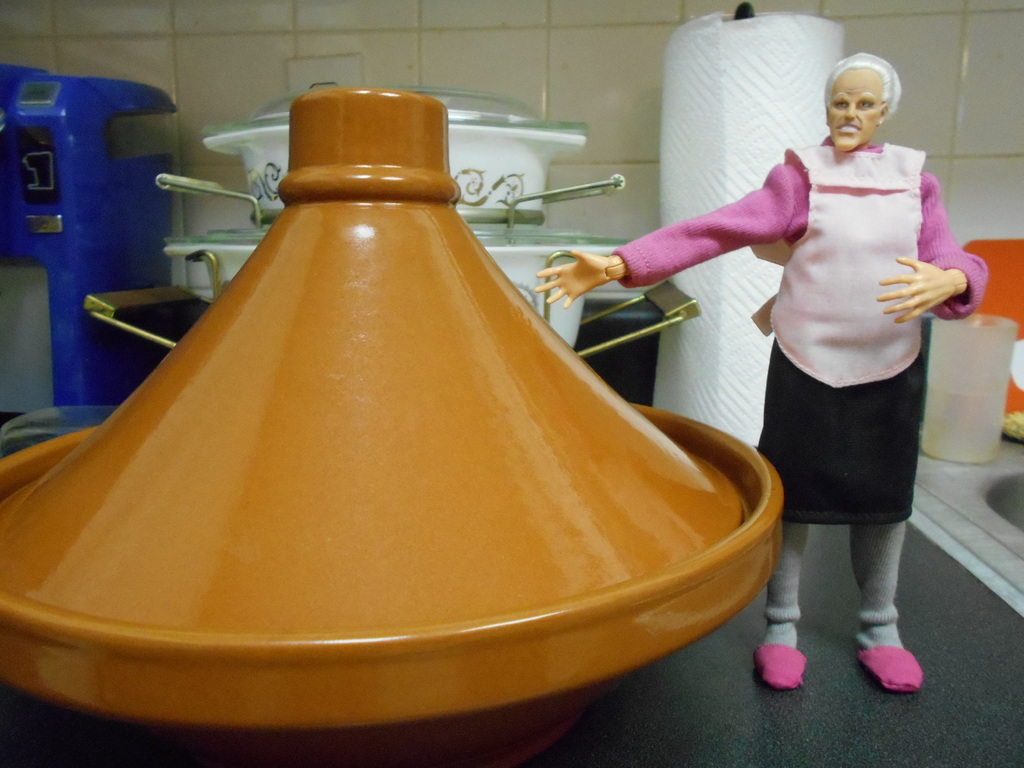Human_hand: (539, 232, 630, 308), (875, 256, 952, 324)
